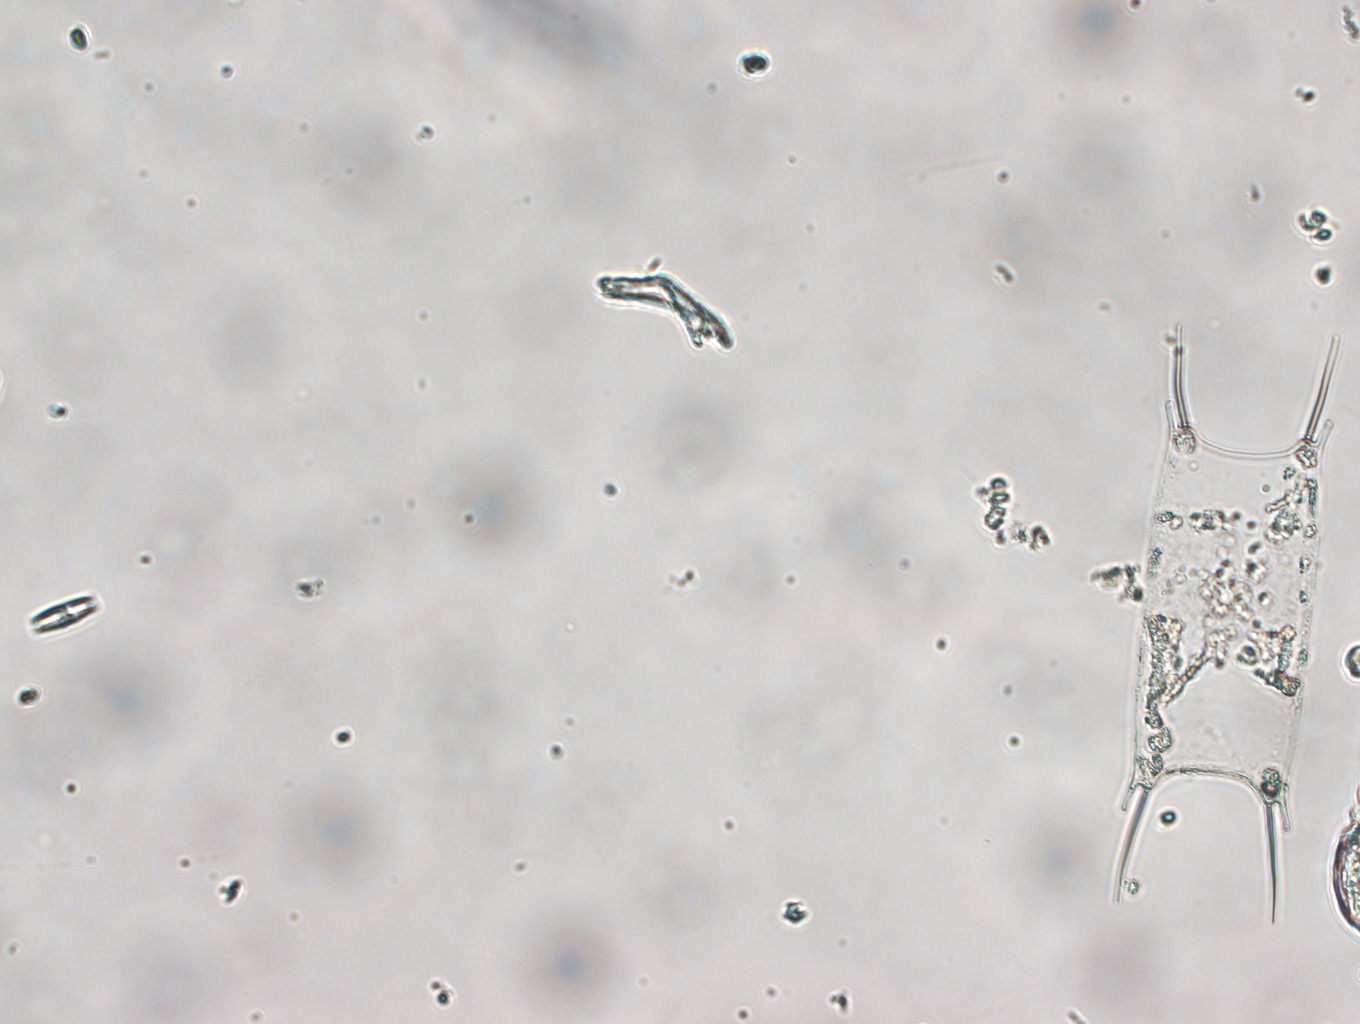biddulphia: (1112, 308, 1346, 920)
